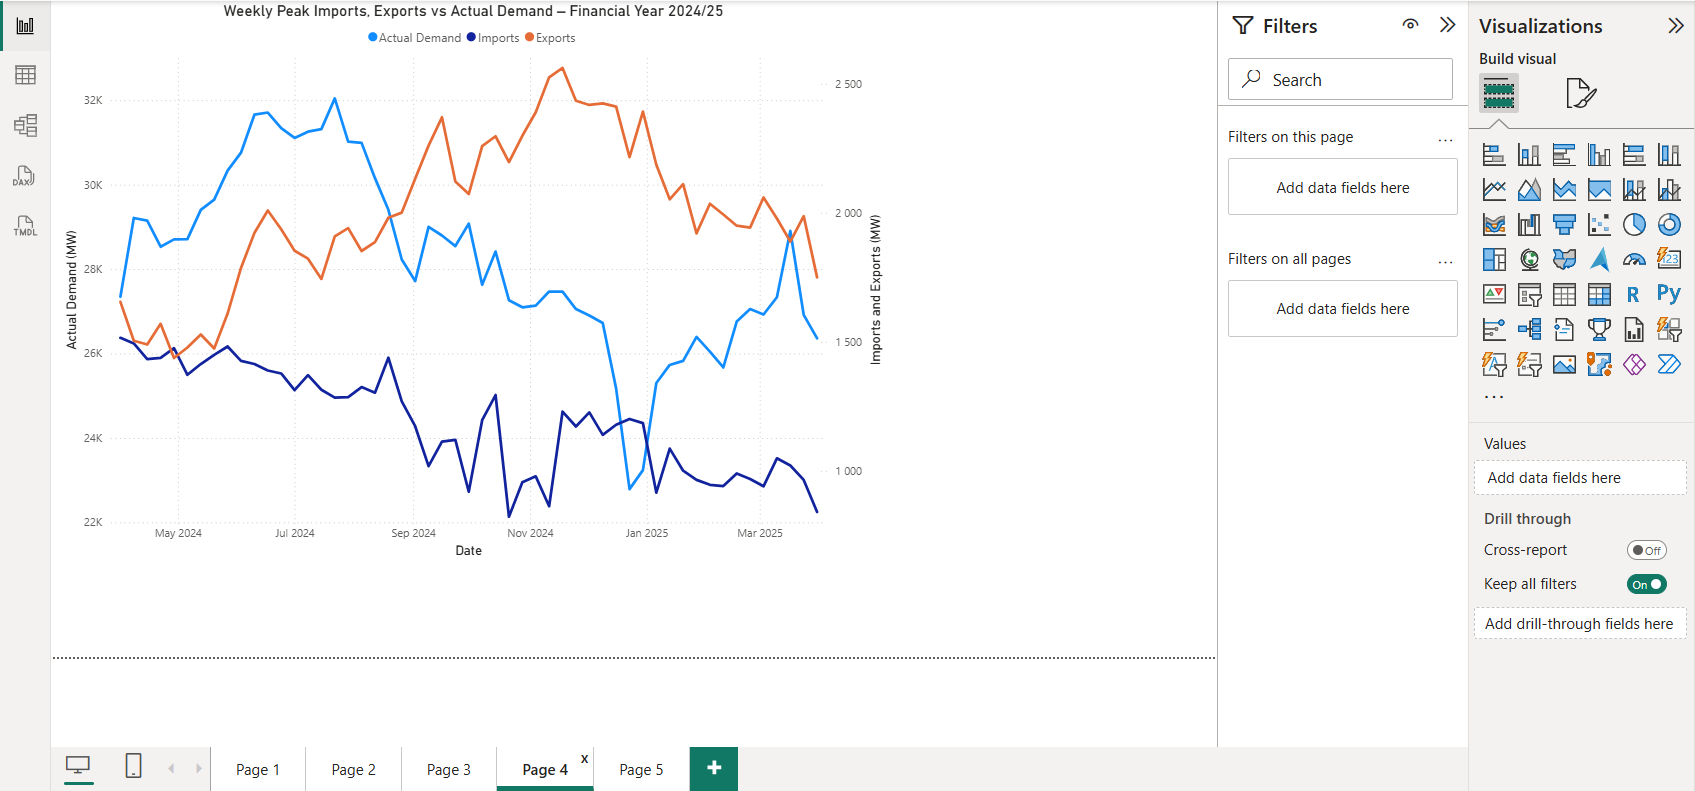

The dashboard page shown, as its layout file describes it:
{"tool":"powerbi","page":{"name":"Page 4","canvas":[1280,720],"ordinal":3},"visuals":[{"type":"lineChart","title":"Weekly Peak Imports, Exports vs Actual Demand – Financial Year 2024/25","fields":{"Category":["public vw_weekly_imports_demand.week_start"],"Y":["Max(public vw_weekly_imports_demand.weekly_peak_actual)"],"Y2":["Max(public vw_weekly_imports_demand.weekly_peak_imports)","Max(public vw_weekly_imports_demand.weekly_peak_exports)"]},"box":[9.6,0,908.4,616.1],"z":0}]}

Visuals, with their boxes on the page's 1280x720 design canvas (x1, y1, x2, y2). These are canvas units, not pixel positions in the 1695x791 screenshot, which may show the page scaled, cropped or inside an application window:
"Weekly Peak Imports, Exports vs Actual Demand – Financial Year 2024/25" lineChart: bbox(10, 0, 918, 616)
